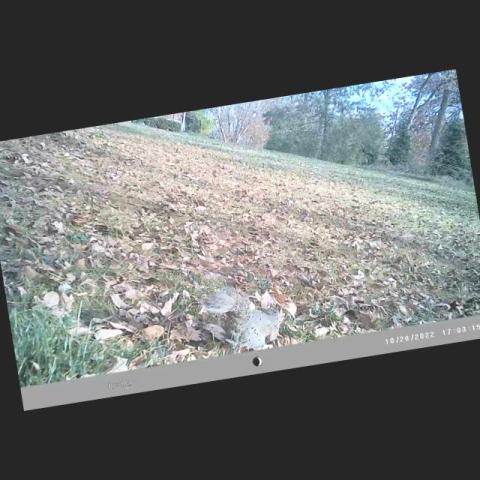small_animal: (201, 286, 287, 349)
